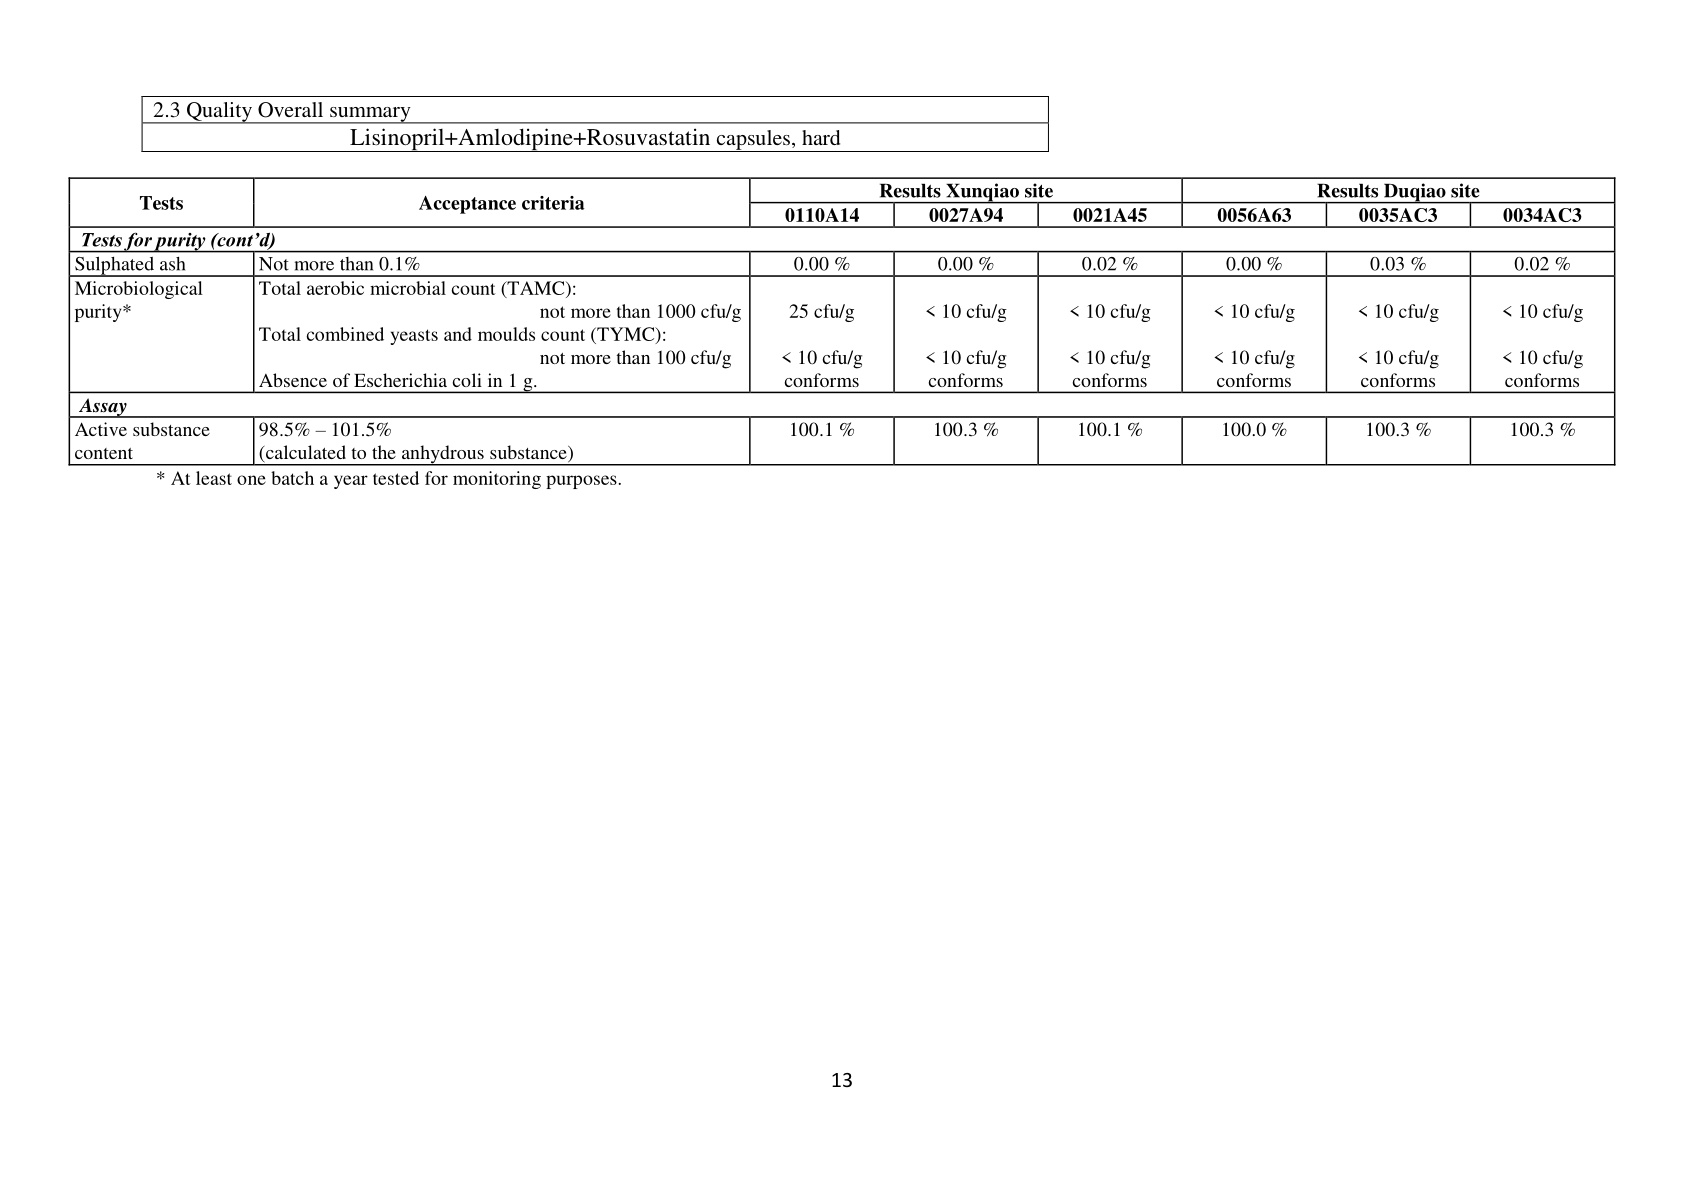full_lined: (140, 94, 1051, 153)
merged_cells: (66, 177, 1616, 467)
